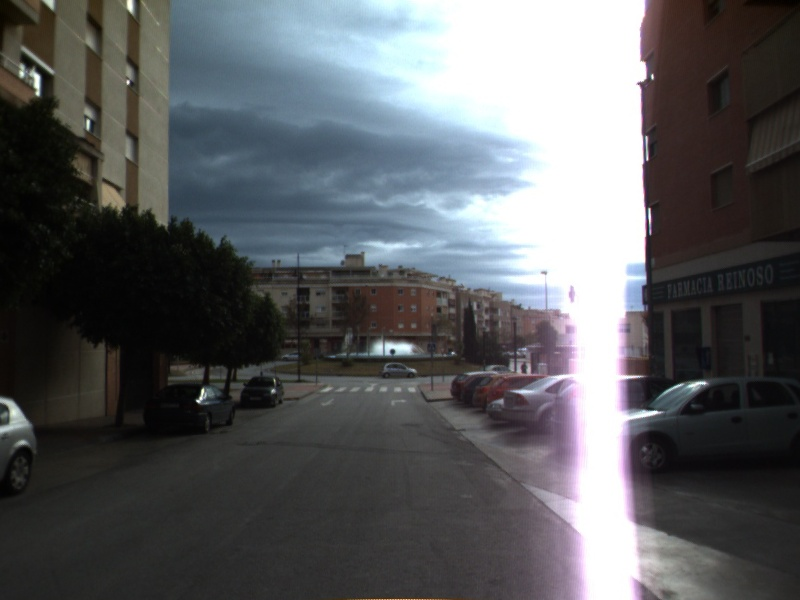RIGHT: (389, 396, 409, 407)
